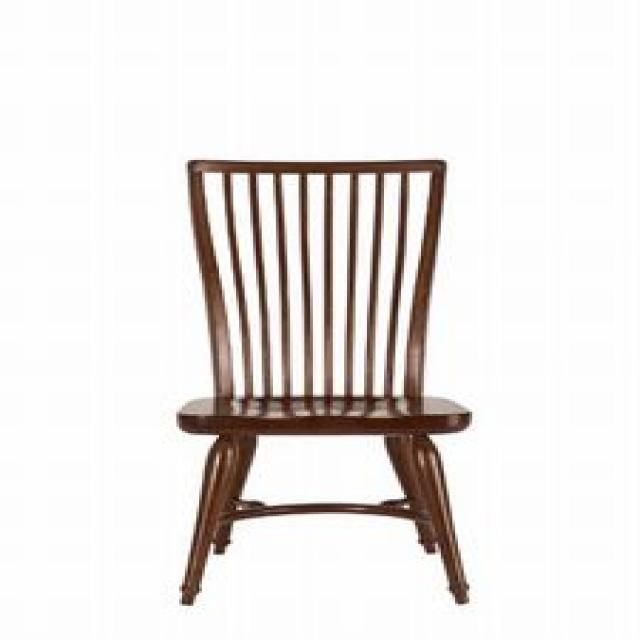chair: (174, 156, 472, 606)
